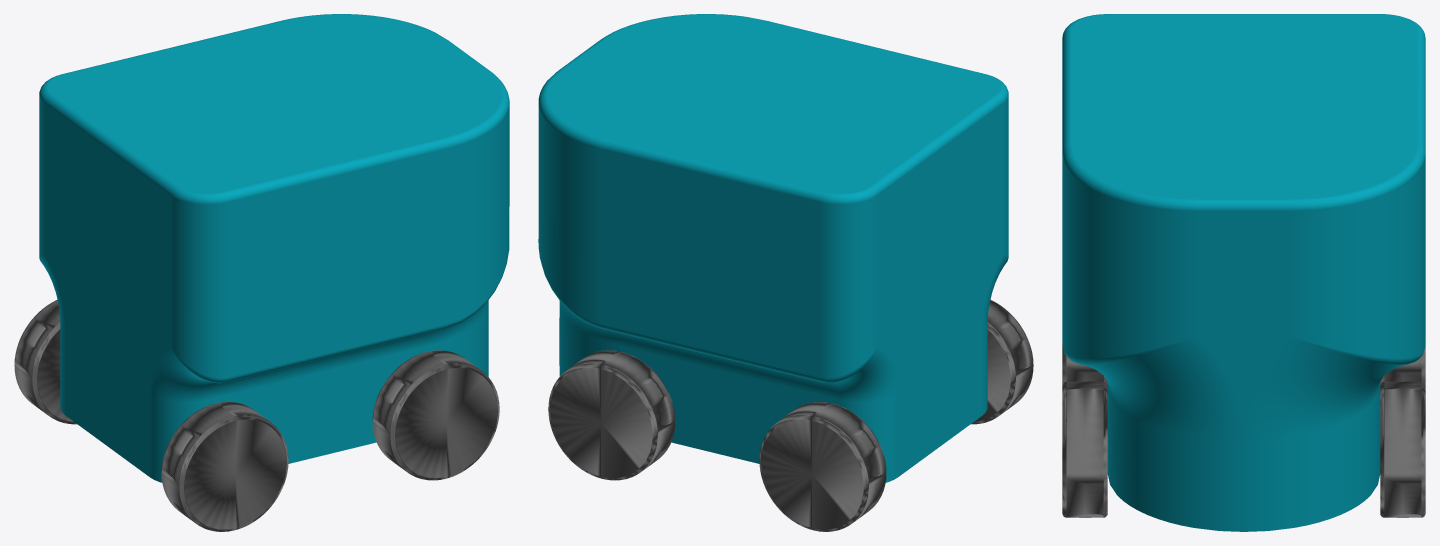
File: dynamic_object.dae
The picture shows the model from 3 angles, left to right: view 1: azimuth 30°, elevation 25°; view 2: azimuth 150°, elevation 25°; view 3: azimuth 270°, elevation 25°; orthographic projection. The views are drawn at different scales.
Parts seen in each view (by area): view 1: Body1, Body1.001, Body5, Body6; view 2: Body1, Body6, Body7, Body1.001; view 3: Body1, Body5, Body7, Body1.001, Body6.
Part boxes in pixels (x1=…): Body1: x1=39, y1=14, x2=509, y2=482; Body1.001: x1=161, y1=402, x2=288, y2=531; Body5: x1=372, y1=350, x2=499, y2=480; Body6: x1=14, y1=300, x2=76, y2=424; Body1: x1=538, y1=14, x2=1008, y2=482; Body6: x1=759, y1=402, x2=886, y2=531; Body7: x1=548, y1=350, x2=675, y2=480; Body1.001: x1=971, y1=299, x2=1033, y2=424; Body1: x1=1062, y1=14, x2=1425, y2=531; Body5: x1=1062, y1=381, x2=1107, y2=517; Body7: x1=1380, y1=381, x2=1425, y2=517; Body1.001: x1=1062, y1=344, x2=1107, y2=384; Body6: x1=1380, y1=344, x2=1425, y2=384.
Size of the model in its own units: 0.515 by 0.4 by 0.445.
